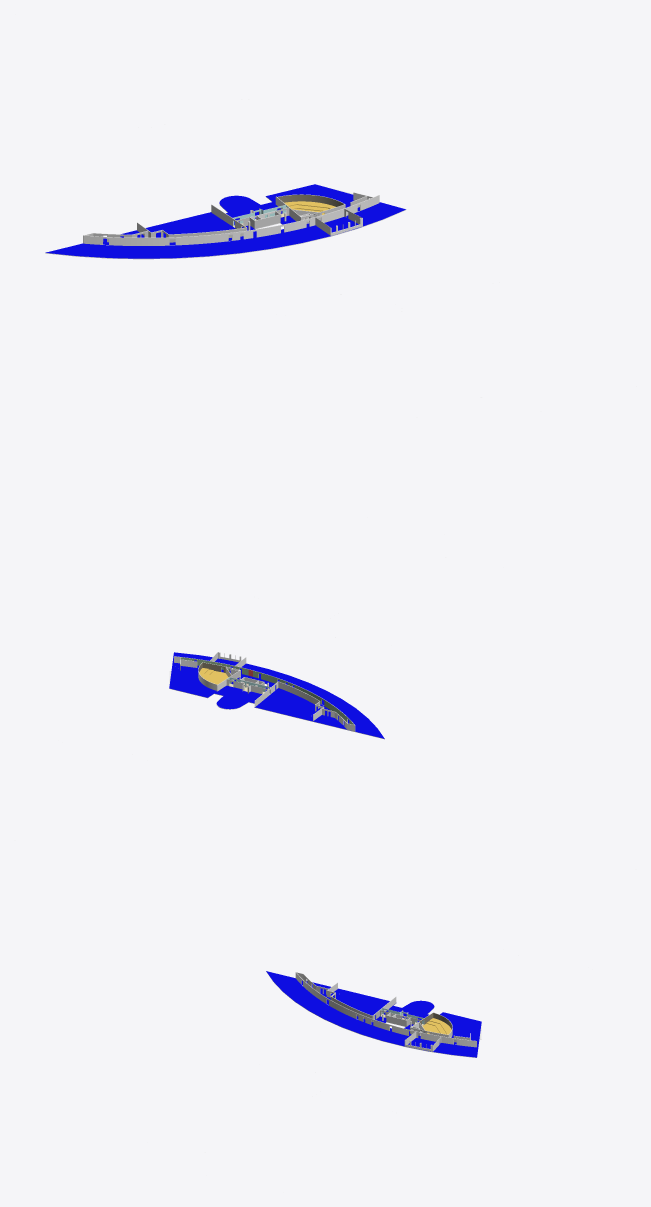
3 views of the same model, one above another, from view 1: azimuth 30°, elevation 25°; view 2: azimuth 150°, elevation 25°; view 3: azimuth 330°, elevation 25° (orthographic). The views are drawn at different scales.
Visible parts, largest first — view 1: Model; view 2: Model; view 3: Model.
Part boxes in pixels (x1=…): Model: x1=45, y1=184, x2=406, y2=259; Model: x1=169, y1=652, x2=384, y2=739; Model: x1=266, y1=971, x2=481, y2=1057.
Size of the model in its own units: 106369 by 2767 by 335070.
